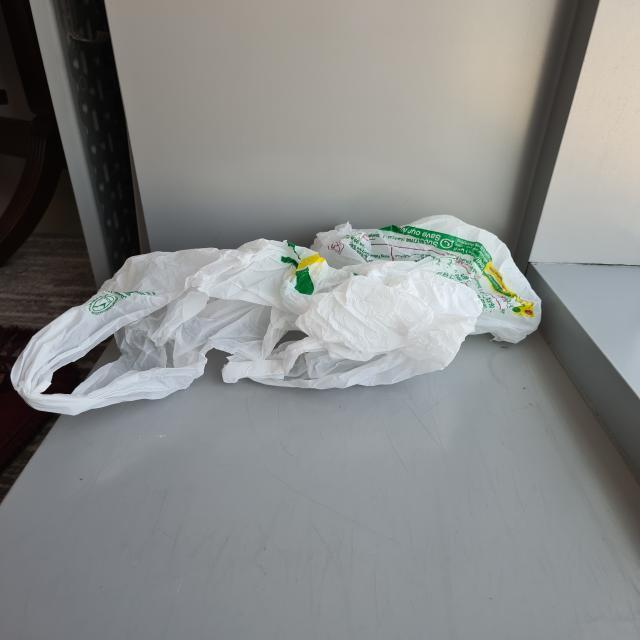plastic: (10, 214, 542, 410)
